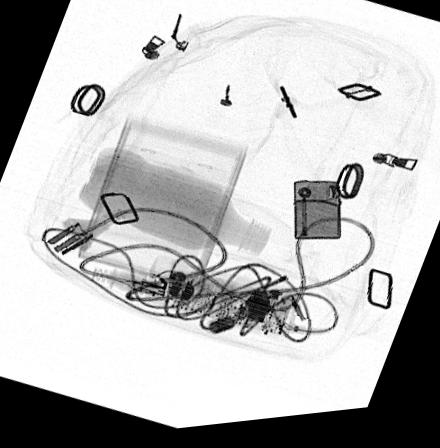Lighter: (293, 186, 342, 247)
